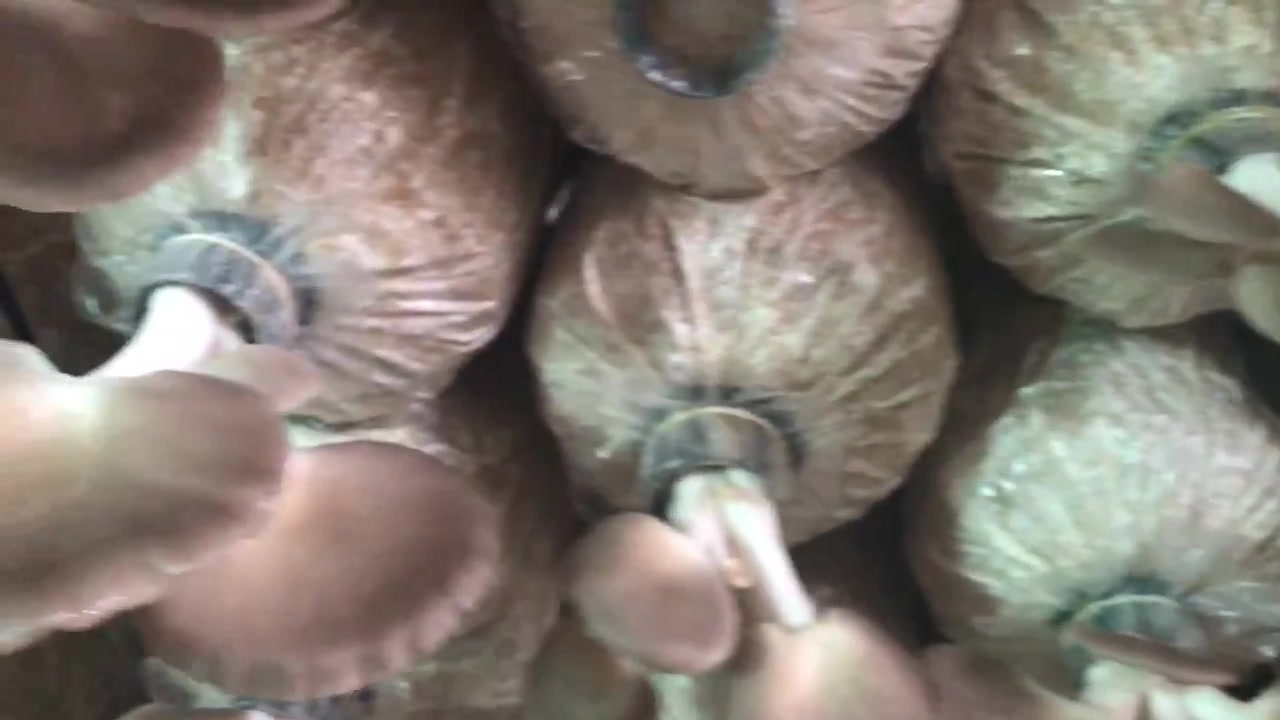nam: (3, 209, 506, 712), (568, 393, 940, 720), (1, 1, 343, 212), (1074, 81, 1280, 331)
